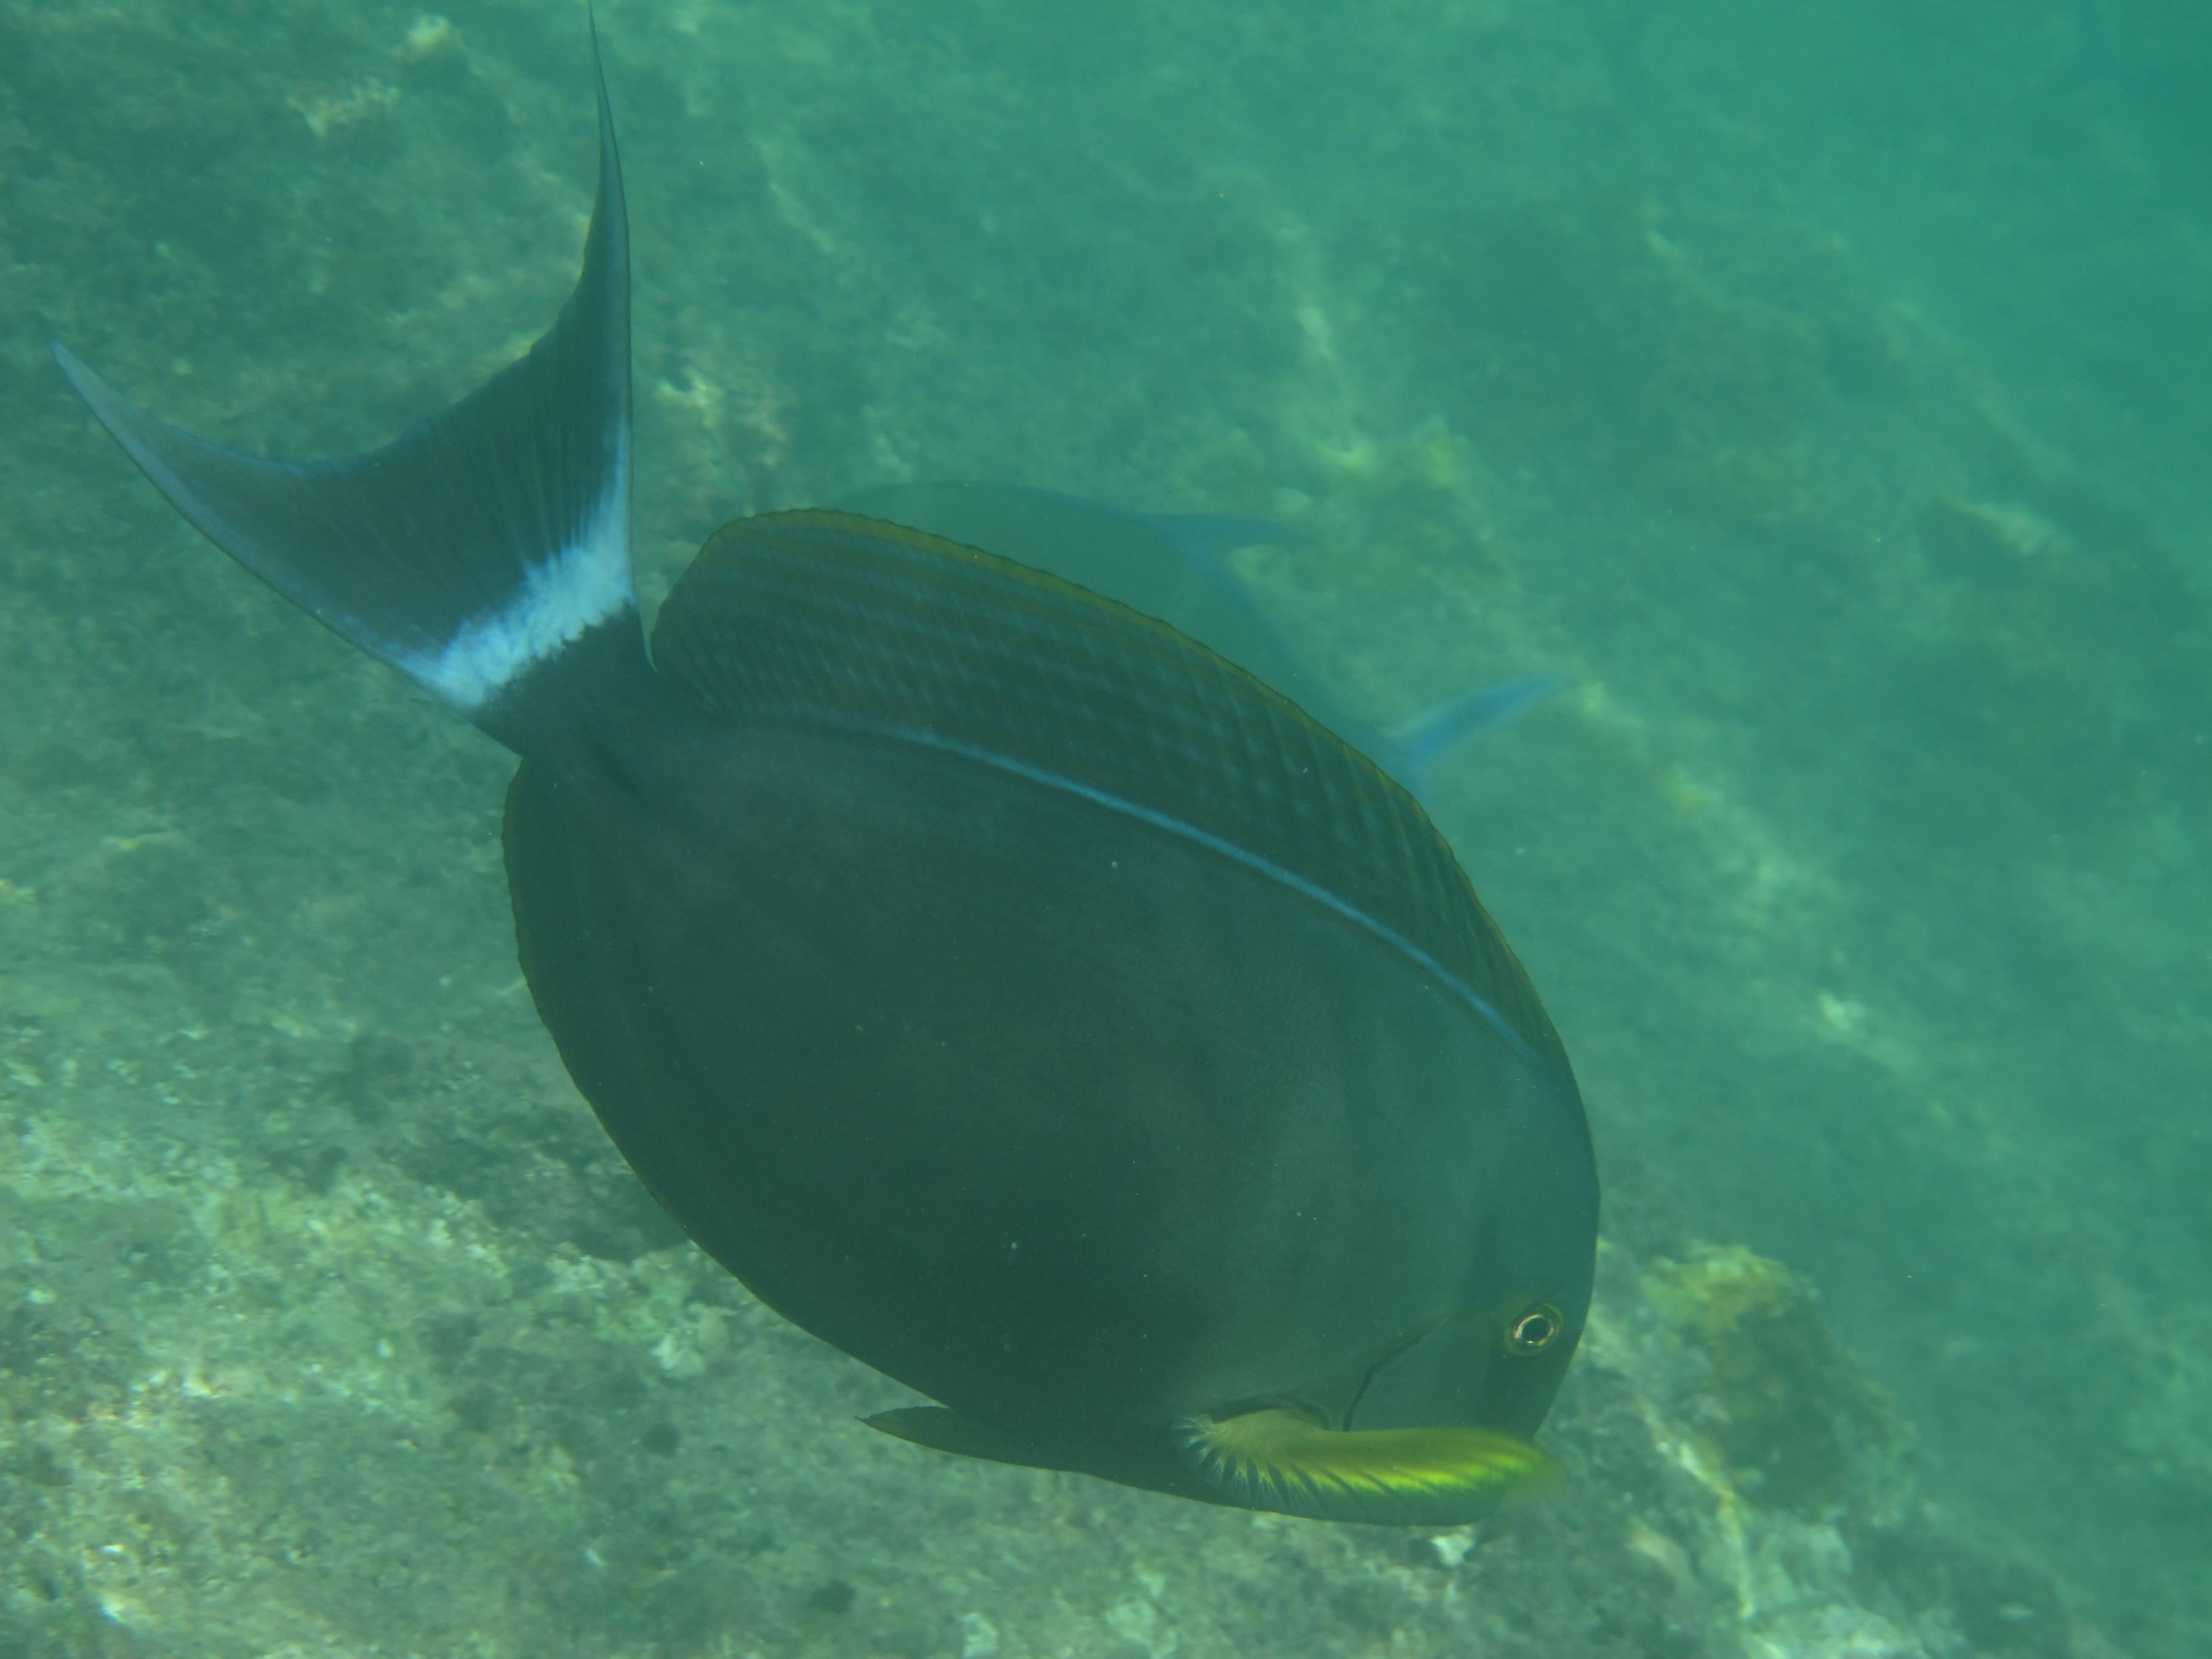Fish: (40, 0, 1818, 1636)
